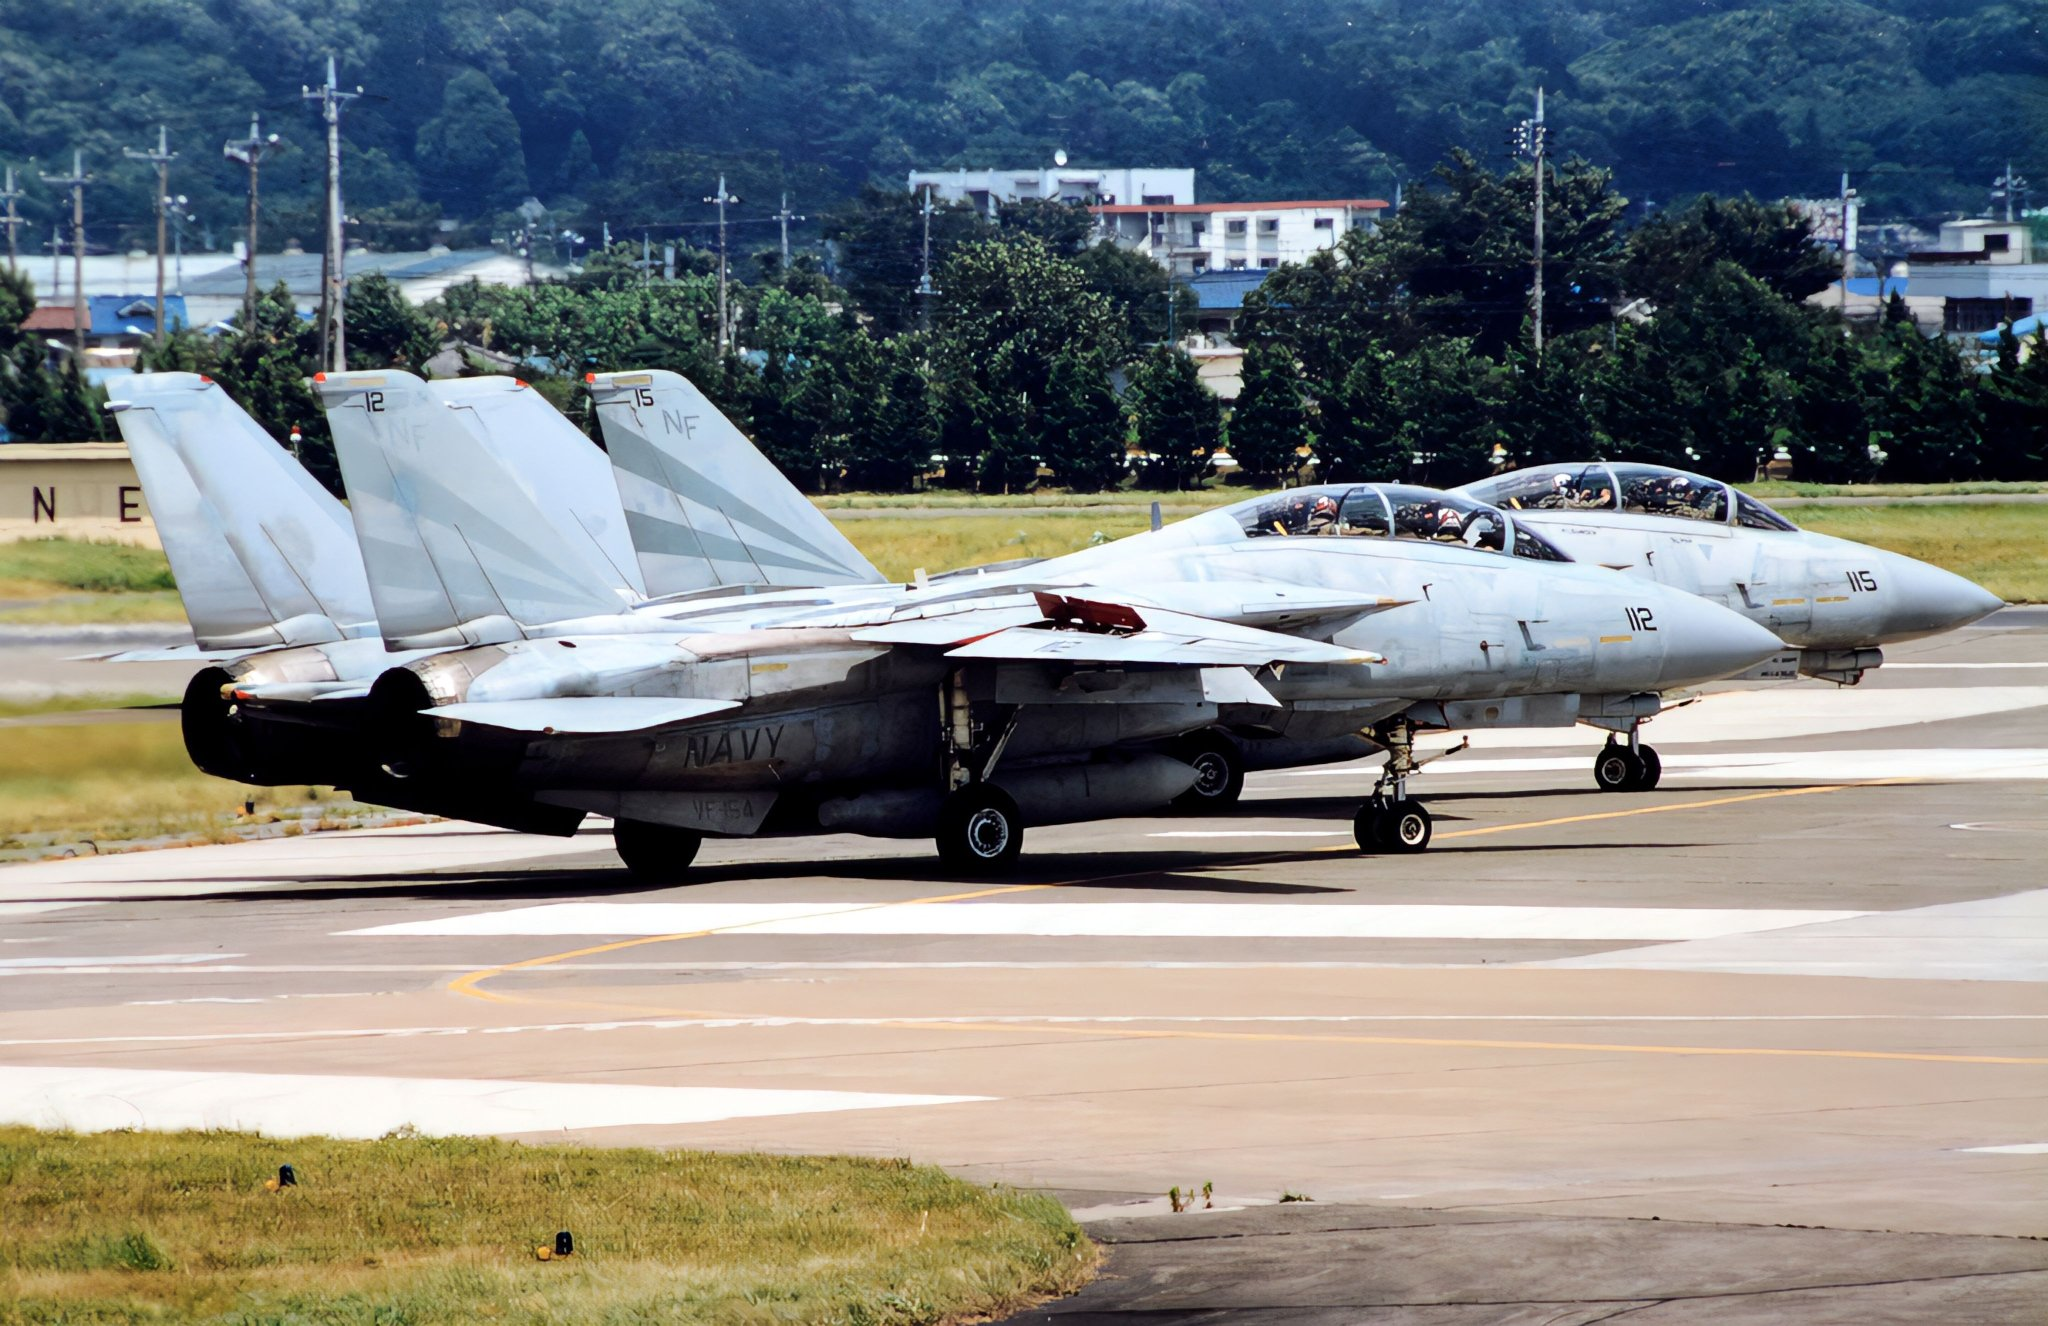F14: (1, 367, 1808, 877), (425, 369, 2029, 812)
